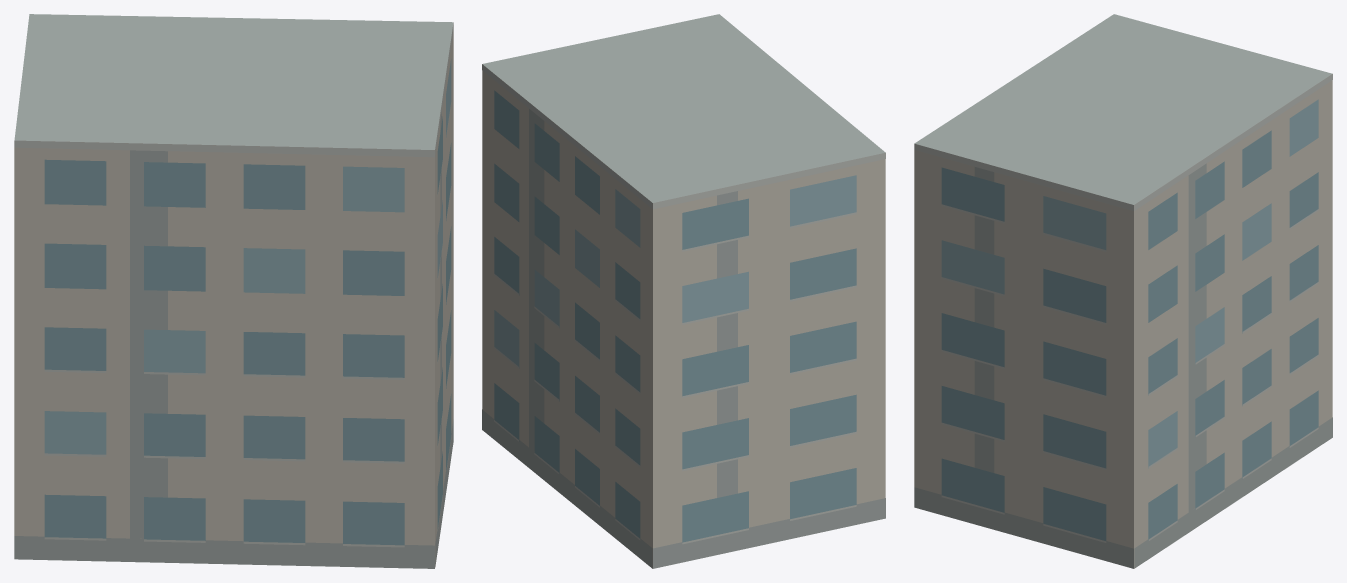
The model's file is survey-upis-32885156.glb.
3 views of the same model, side by side, from view 1: azimuth 30°, elevation 25°; view 2: azimuth 150°, elevation 25°; view 3: azimuth 270°, elevation 25° (orthographic). The views are drawn at different scales.
Visible parts, largest first — view 1: survey-upis-32885156.tmp; view 2: survey-upis-32885156.tmp; view 3: survey-upis-32885156.tmp.
Boxes of the visible parts, x1,y1,x2,y2 form: survey-upis-32885156.tmp: (14, 14, 453, 568); survey-upis-32885156.tmp: (482, 14, 885, 568); survey-upis-32885156.tmp: (914, 14, 1332, 568).
Bounding box in the file's own units: 16 × 14.2 × 14.81.
